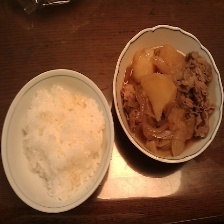rice: (15, 81, 108, 208)
